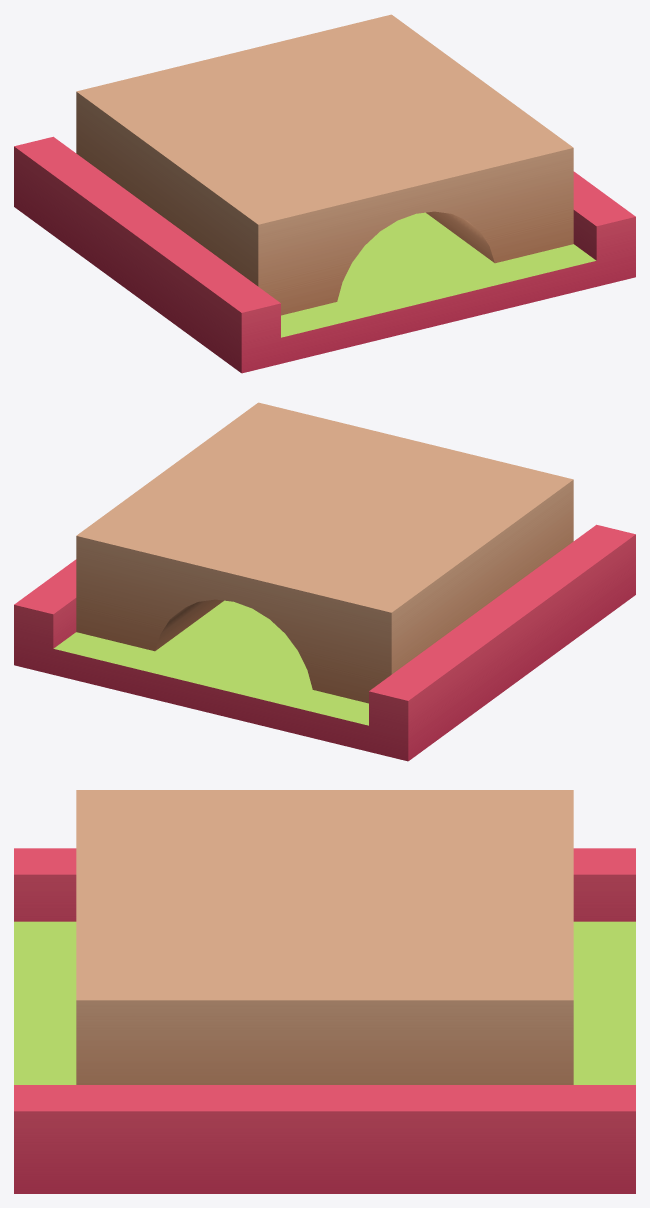
The model's file is tunnel-wide.gltf.
The picture shows the model from 3 angles, top to bottom: view 1: azimuth 30°, elevation 25°; view 2: azimuth 150°, elevation 25°; view 3: azimuth 270°, elevation 25°; orthographic projection. The views are drawn at different scales.
Visible parts, largest first — view 1: tunnel-wide; view 2: tunnel-wide; view 3: tunnel-wide.
Part boxes in pixels (x1,y1,x2,y2): tunnel-wide: [14, 14, 635, 373]; tunnel-wide: [14, 402, 635, 761]; tunnel-wide: [14, 790, 635, 1193].
Size of the model in its own units: 0.9999 by 0.2966 by 0.9999.
1 material, 1 textured.
